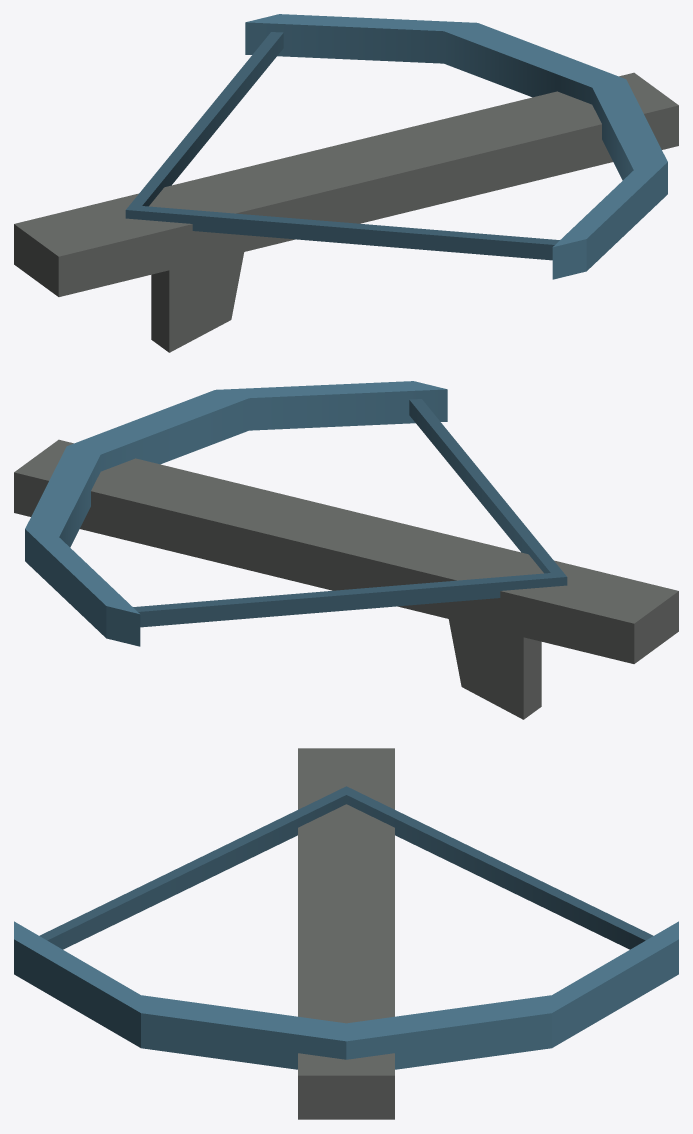
File: crossbow01.fbx
3 renders of one model, top to bottom at view 1: azimuth 30°, elevation 25°; view 2: azimuth 150°, elevation 25°; view 3: azimuth 270°, elevation 25°, orthographic. The views are drawn at different scales.
Parts seen in each view (by area): view 1: body, bow2, bow1, handle; view 2: body, bow2, bow1, handle; view 3: bow2, body, bow1.
Boxes of the visible parts, <box> form: body: <box>14,72,678,296</box>; bow2: <box>245,14,667,279</box>; bow1: <box>125,32,559,260</box>; handle: <box>151,252,244,352</box>; body: <box>14,439,678,663</box>; bow2: <box>25,381,447,646</box>; bow1: <box>133,399,567,627</box>; handle: <box>448,619,541,719</box>; bow2: <box>14,921,678,1069</box>; body: <box>298,748,394,1119</box>; bow1: <box>39,786,653,949</box>.
Size of the model in its own units: 40 by 9.45 by 34.33.
